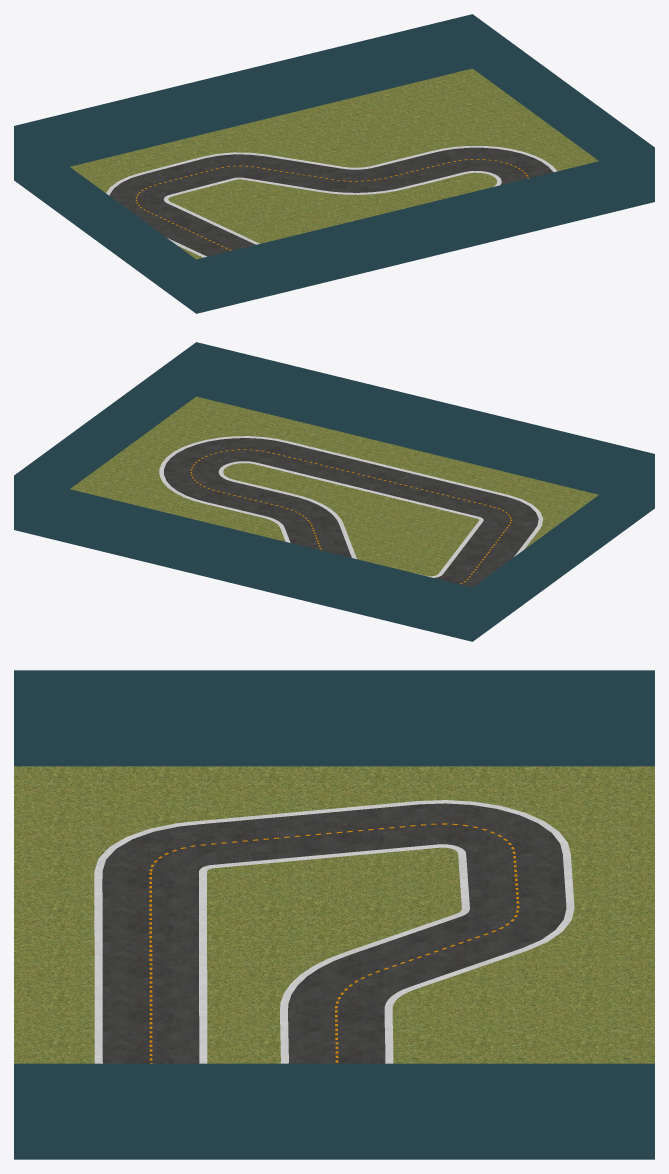
The model's file is reInvent2019_wide.dae.
3 renders of one model, top to bottom at view 1: azimuth 30°, elevation 25°; view 2: azimuth 150°, elevation 25°; view 3: azimuth 270°, elevation 25°, orthographic. The views are drawn at different scales.
Parts seen in each view (by area): view 1: wall, field, road, il, ol; view 2: wall, field, road, il, ol, cl; view 3: wall, field, road, il, ol, cl.
Boxes of the visible parts, x1=… form: wall: x1=14, y1=14, x2=654, y2=313; field: x1=70, y1=68, x2=598, y2=259; road: x1=109, y1=147, x2=553, y2=256; il: x1=106, y1=146, x2=556, y2=257; ol: x1=163, y1=171, x2=501, y2=244; wall: x1=14, y1=342, x2=654, y2=641; field: x1=70, y1=396, x2=598, y2=576; road: x1=164, y1=438, x2=538, y2=587; il: x1=159, y1=436, x2=542, y2=556; ol: x1=218, y1=461, x2=483, y2=577; cl: x1=190, y1=449, x2=511, y2=584; wall: x1=14, y1=670, x2=654, y2=1159; field: x1=14, y1=766, x2=654, y2=1063; road: x1=102, y1=803, x2=566, y2=1063; il: x1=94, y1=800, x2=574, y2=1063; ol: x1=199, y1=844, x2=469, y2=1063; cl: x1=149, y1=823, x2=519, y2=1063.
Size of the model in its own units: 8.82 by 6.07 by 1.
6 materials, 6 textured.
